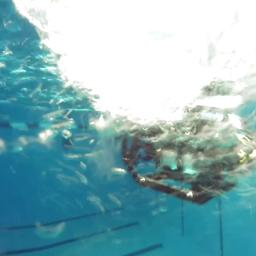Side: (125, 106, 256, 205)
